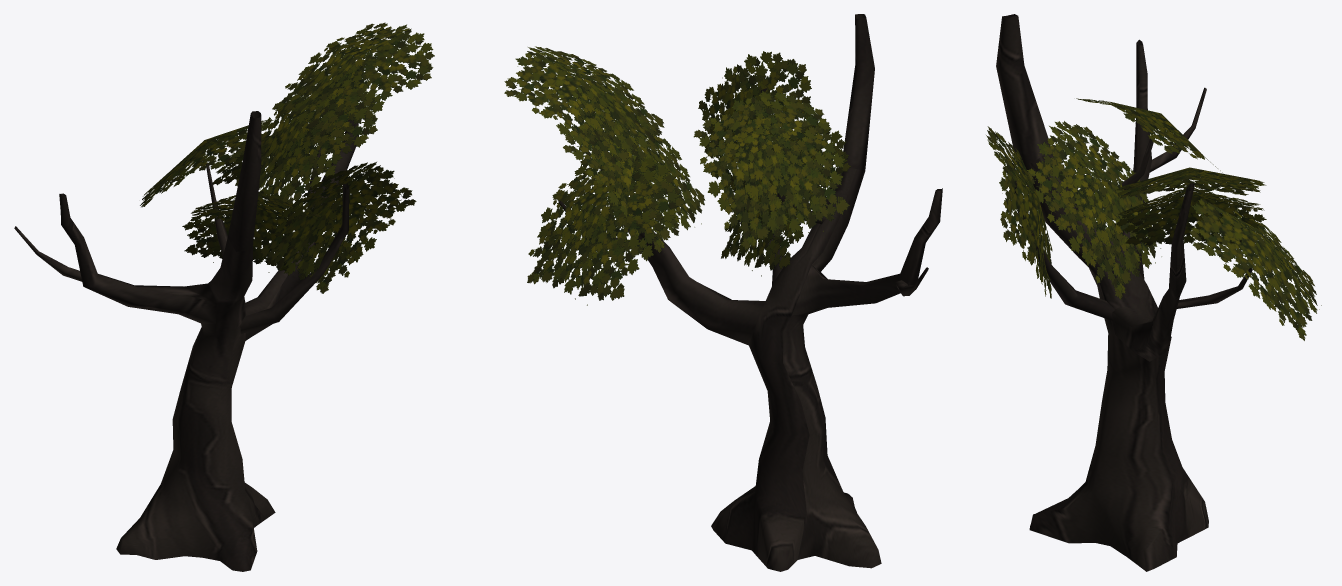
The model's file is fanasty_mod_leaftree04.fbx.
3 renders of one model, left to right at view 1: azimuth 30°, elevation 25°; view 2: azimuth 150°, elevation 25°; view 3: azimuth 270°, elevation 25°, orthographic. The views are drawn at different scales.
Parts seen in each view (by area): view 1: leaftree_04; view 2: leaftree_04; view 3: leaftree_04.
Boxes of the visible parts, <box> form: leaftree_04: <box>14,22,434,571</box>; leaftree_04: <box>504,14,942,571</box>; leaftree_04: <box>986,14,1321,571</box>.
Bounding box in the file's own units: 6.43 × 7.19 × 4.52.
